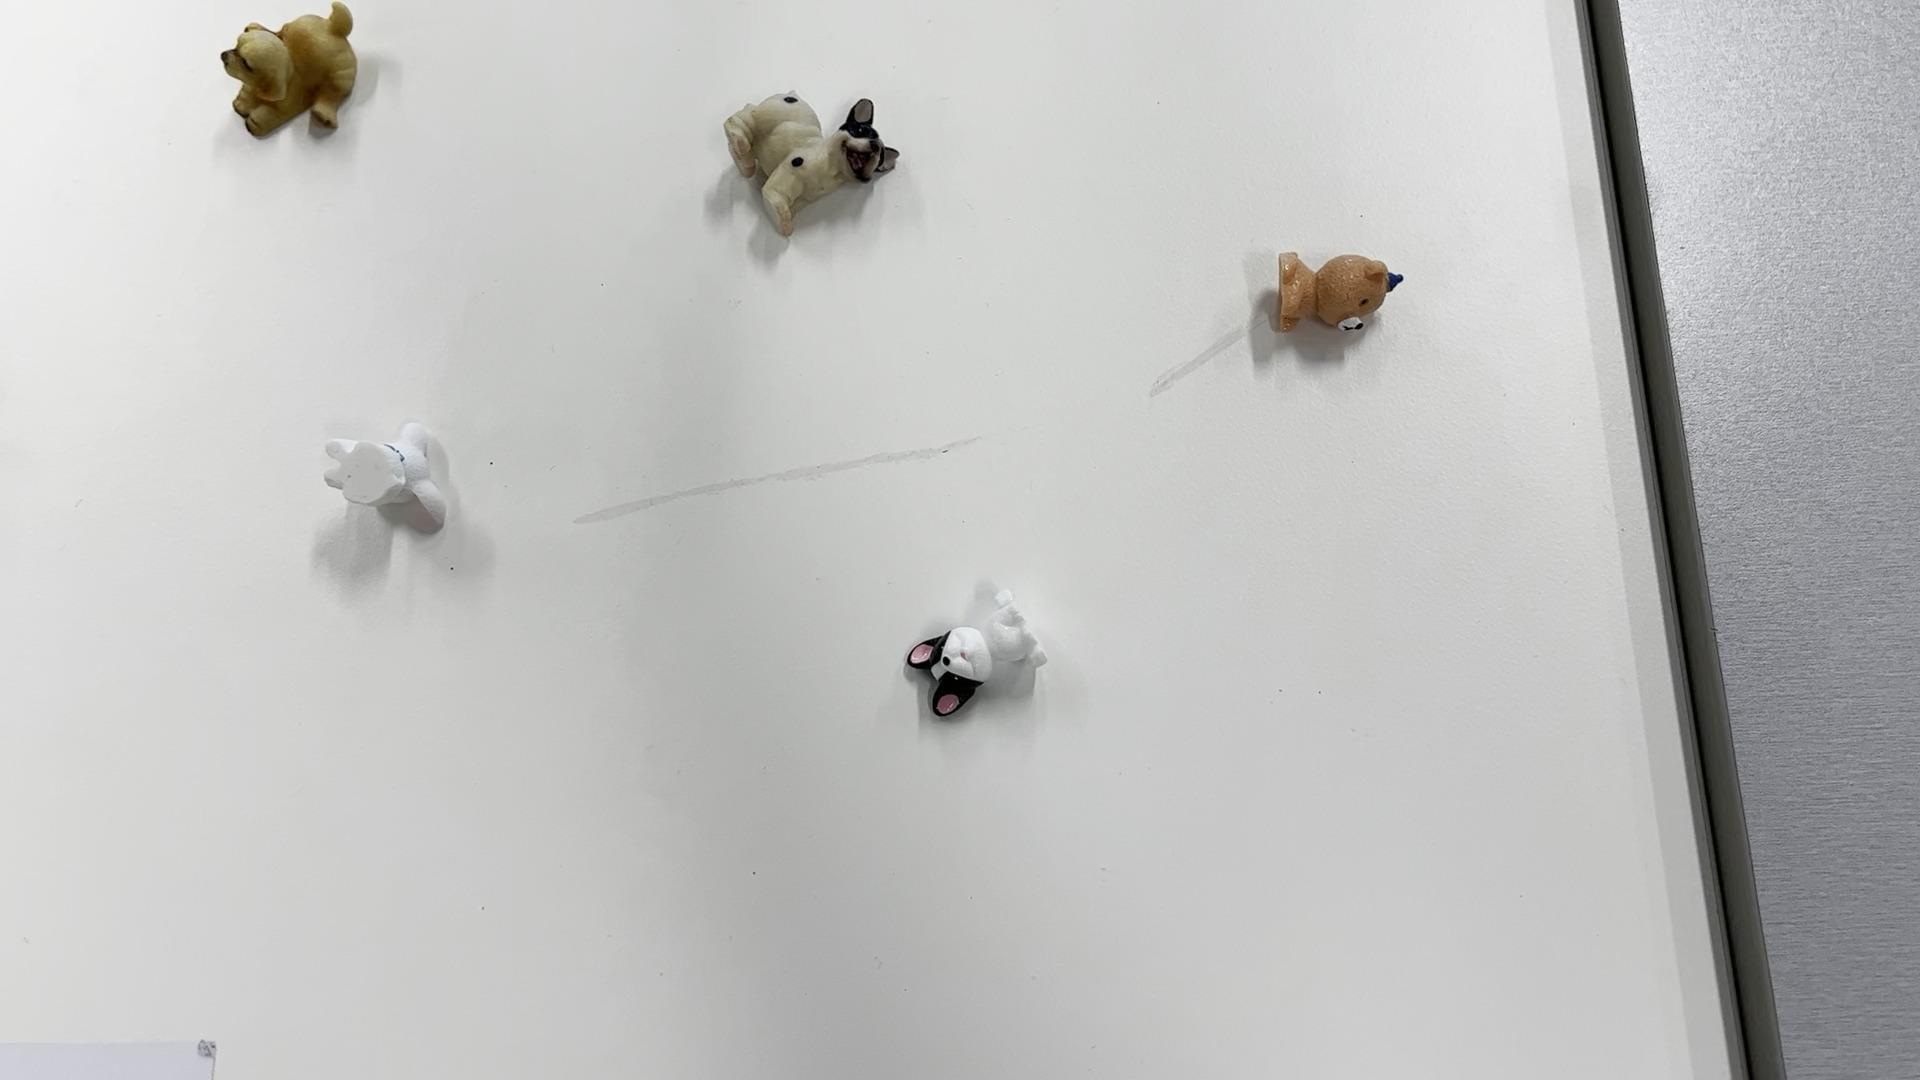pet: (717, 82, 911, 252), (202, 4, 410, 153), (898, 575, 1056, 742), (315, 407, 475, 564), (1247, 231, 1411, 369)
